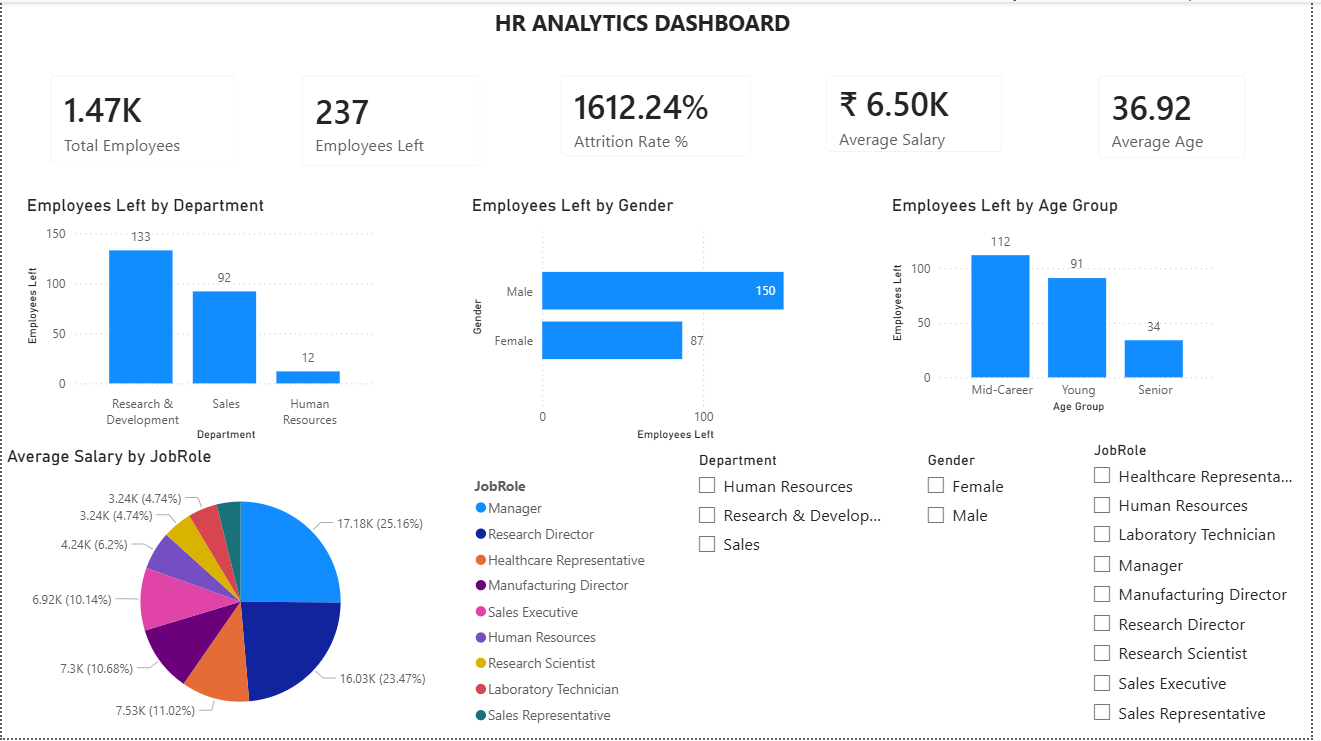

The dashboard page shown, as its layout file describes it:
{"tool":"powerbi","page":{"name":"HR ANALYTICS DASHBOARD ","canvas":[1280,720],"ordinal":0},"visuals":[{"type":"textbox","box":[469.3,0,319.7,67.2],"z":0},{"type":"cardVisual","title":"Total Employees","fields":{"Data":["WA_Fn-UseC_-HR-Employee-Attriti.Total Employees"]},"box":[30.2,54.9,215.4,120.8],"z":1000},{"type":"cardVisual","title":"Employees Left","fields":{"Data":["WA_Fn-UseC_-HR-Employee-Attriti.Employees Left"]},"box":[275.8,54.9,209.9,123.5],"z":2000},{"type":"cardVisual","fields":{"Data":["WA_Fn-UseC_-HR-Employee-Attriti.Attrition Rate %"]},"box":[529.7,54.9,220.9,113.9],"z":3000},{"type":"cardVisual","fields":{"Data":["WA_Fn-UseC_-HR-Employee-Attriti.Average Salary"]},"box":[789,54.9,207.2,109.8],"z":4000},{"type":"cardVisual","fields":{"Data":["WA_Fn-UseC_-HR-Employee-Attriti.Average Age"]},"box":[1055.2,54.9,178.4,115.3],"z":5000},{"type":"clusteredColumnChart","fields":{"Y":["WA_Fn-UseC_-HR-Employee-Attriti.Employees Left"],"Category":["WA_Fn-UseC_-HR-Employee-Attriti.Department"]},"box":[19.6,188.3,352.2,245.8],"z":6000},{"type":"clusteredBarChart","fields":{"Y":["WA_Fn-UseC_-HR-Employee-Attriti.Employees Left"],"Category":["WA_Fn-UseC_-HR-Employee-Attriti.Gender"]},"box":[454.9,188.3,349.7,245.8],"z":7000},{"type":"clusteredColumnChart","fields":{"Y":["WA_Fn-UseC_-HR-Employee-Attriti.Employees Left"],"Category":["WA_Fn-UseC_-HR-Employee-Attriti.Age Group"]},"box":[865.8,188.3,327.7,218.9],"z":8000},{"type":"pieChart","fields":{"Category":["WA_Fn-UseC_-HR-Employee-Attriti.JobRole"],"Y":["WA_Fn-UseC_-HR-Employee-Attriti.Average Salary"]},"box":[0,434.1,643.2,286.1],"z":9000},{"type":"slicer","fields":{"Values":["WA_Fn-UseC_-HR-Employee-Attriti.Department"]},"box":[668.9,434.1,206.7,123.5],"z":10000},{"type":"slicer","fields":{"Values":["WA_Fn-UseC_-HR-Employee-Attriti.Gender"]},"box":[892.7,434.1,122.3,122.3],"z":11000},{"type":"slicer","fields":{"Values":["WA_Fn-UseC_-HR-Employee-Attriti.JobRole"]},"box":[1055.3,424.3,216.4,295.9],"z":12000}]}

Visuals, with their boxes in screenshot pixels (x1, y1, x2, y2), scaled from the page's 1280x720 canvas onto the 1321x741 screenshot:
textbox: [left=484, top=0, right=814, bottom=69]
"Total Employees" cardVisual: [left=31, top=57, right=253, bottom=181]
"Employees Left" cardVisual: [left=285, top=57, right=501, bottom=184]
cardVisual - WA_Fn-UseC_-HR-Employee-Attriti.Attrition Rate %: [left=547, top=57, right=775, bottom=174]
cardVisual - WA_Fn-UseC_-HR-Employee-Attriti.Average Salary: [left=814, top=57, right=1028, bottom=170]
cardVisual - WA_Fn-UseC_-HR-Employee-Attriti.Average Age: [left=1089, top=57, right=1273, bottom=175]
clusteredColumnChart - WA_Fn-UseC_-HR-Employee-Attriti.Employees Left x WA_Fn-UseC_-HR-Employee-Attriti.Department: [left=20, top=194, right=384, bottom=447]
clusteredBarChart - WA_Fn-UseC_-HR-Employee-Attriti.Employees Left x WA_Fn-UseC_-HR-Employee-Attriti.Gender: [left=469, top=194, right=830, bottom=447]
clusteredColumnChart - WA_Fn-UseC_-HR-Employee-Attriti.Employees Left x WA_Fn-UseC_-HR-Employee-Attriti.Age Group: [left=894, top=194, right=1232, bottom=419]
pieChart - WA_Fn-UseC_-HR-Employee-Attriti.JobRole x WA_Fn-UseC_-HR-Employee-Attriti.Average Salary: [left=0, top=447, right=664, bottom=740]
slicer - WA_Fn-UseC_-HR-Employee-Attriti.Department: [left=690, top=447, right=904, bottom=574]
slicer - WA_Fn-UseC_-HR-Employee-Attriti.Gender: [left=921, top=447, right=1048, bottom=573]
slicer - WA_Fn-UseC_-HR-Employee-Attriti.JobRole: [left=1089, top=437, right=1312, bottom=740]
